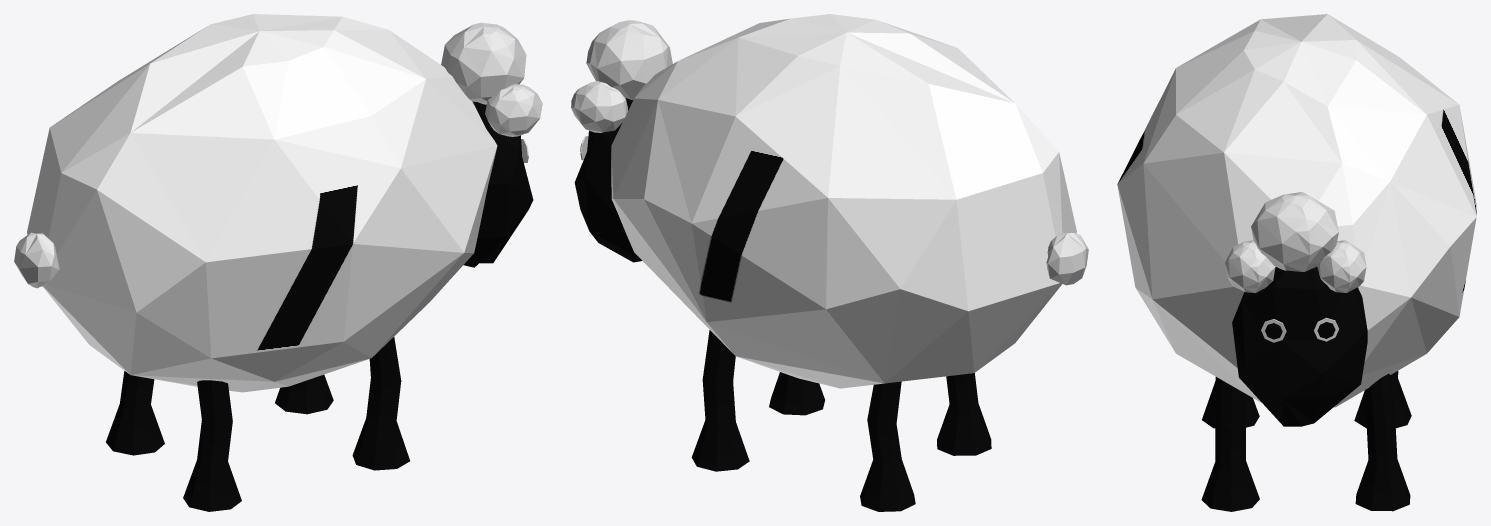
The model's file is sheepdivide.fbx.
The picture shows the model from 3 angles, left to right: view 1: azimuth 30°, elevation 25°; view 2: azimuth 150°, elevation 25°; view 3: azimuth 270°, elevation 25°; orthographic projection.
Visible parts, largest first — view 1: pSphere1, pSphere7, pSphere4, pCylinder1, pCylinder5, pCylinder7, pSphere8, pSphere3, pCylinder6; view 2: pSphere1, pCylinder6, pSphere7, pCylinder7, pSphere4, pCylinder1, pSphere9, pSphere3, pCylinder5; view 3: pSphere1, pSphere4, pSphere7, pCylinder5, pCylinder6, pSphere8, pSphere9, pCylinder7, pCylinder1.
Boxes of the visible parts, x1,y1,x2,y2 form: pSphere1: (27,14,497,392); pSphere7: (441,22,526,104); pSphere4: (463,101,533,267); pCylinder1: (183,380,241,511); pCylinder5: (352,337,409,470); pCylinder7: (106,371,164,455); pSphere8: (485,84,542,136); pSphere3: (14,232,59,288); pCylinder6: (275,374,333,414); pSphere1: (611,14,1076,388); pCylinder6: (691,330,749,471); pSphere7: (586,20,672,100); pCylinder7: (860,381,915,511); pSphere4: (574,98,641,262); pCylinder1: (937,373,991,455); pSphere9: (571,81,627,132); pSphere3: (1046,232,1088,285); pCylinder5: (769,372,824,415); pSphere1: (1117,14,1476,407); pSphere4: (1232,266,1367,426); pSphere7: (1251,192,1338,271); pCylinder5: (1201,378,1259,511); pCylinder6: (1355,373,1410,511); pSphere8: (1225,240,1275,292); pSphere9: (1317,240,1366,292); pCylinder7: (1354,371,1411,428); pCylinder1: (1202,377,1259,428).
Size of the model in its own units: 3.08 by 2.46 by 1.93.
3 materials, 1 textured.
